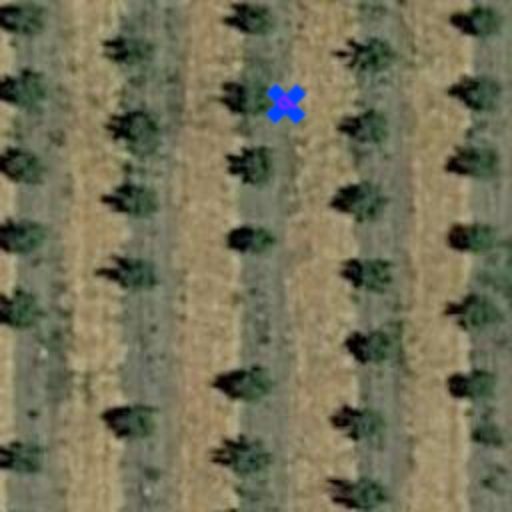cross: (254, 72, 318, 136)
